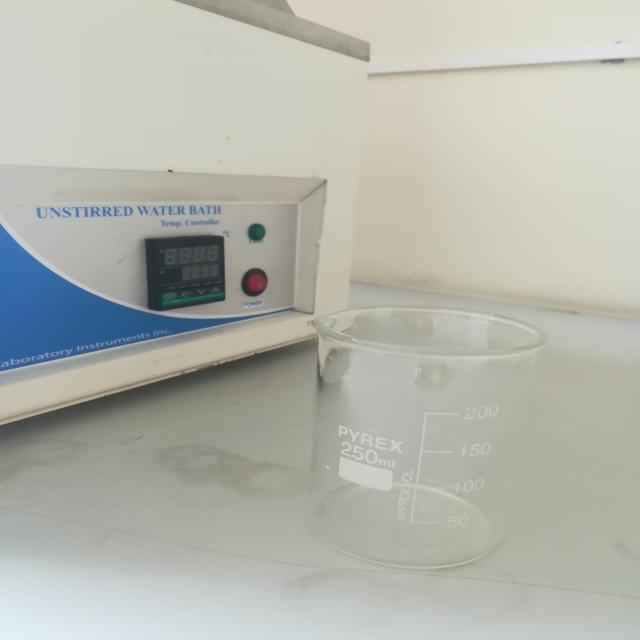Beaker: (265, 280, 562, 588)
